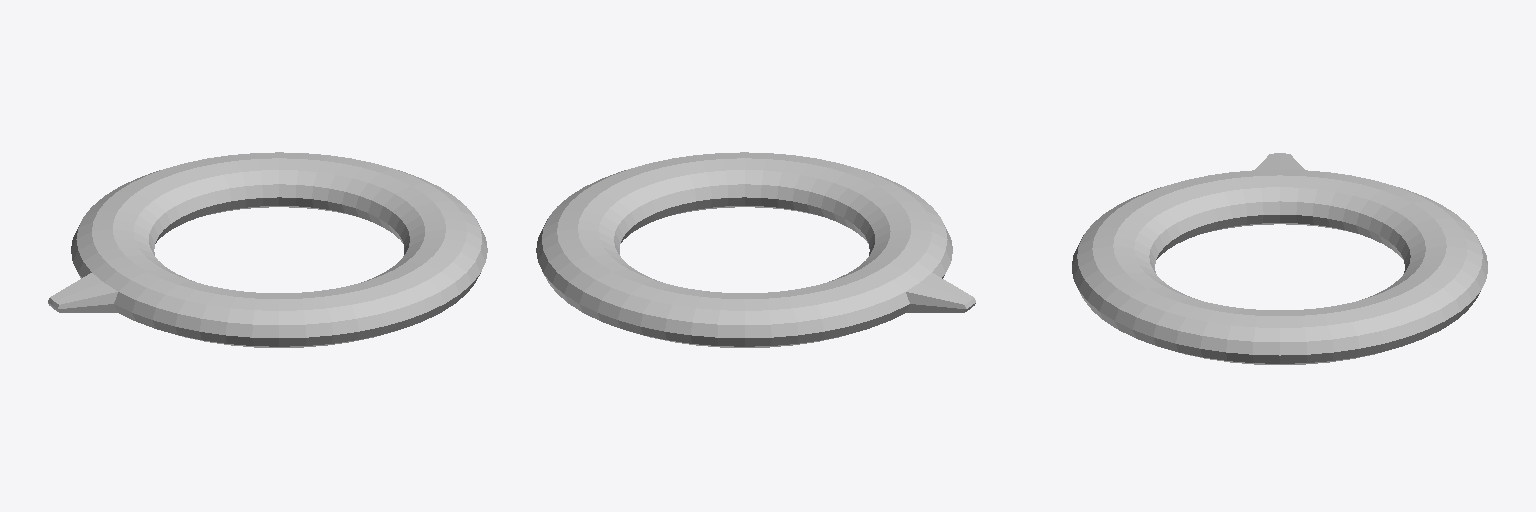
The model's file is marker.obj.
3 views of the same model, side by side, from view 1: azimuth 30°, elevation 25°; view 2: azimuth 150°, elevation 25°; view 3: azimuth 270°, elevation 25° (orthographic).
Visible parts, largest first — view 1: Torus; view 2: Torus; view 3: Torus.
Part boxes in pixels (left/top/right/bottom): Torus: left=48, top=152, right=487, bottom=347; Torus: left=536, top=152, right=975, bottom=347; Torus: left=1072, top=153, right=1487, bottom=364.
Bounding box in the file's own units: 4.52 × 0.455 × 4.